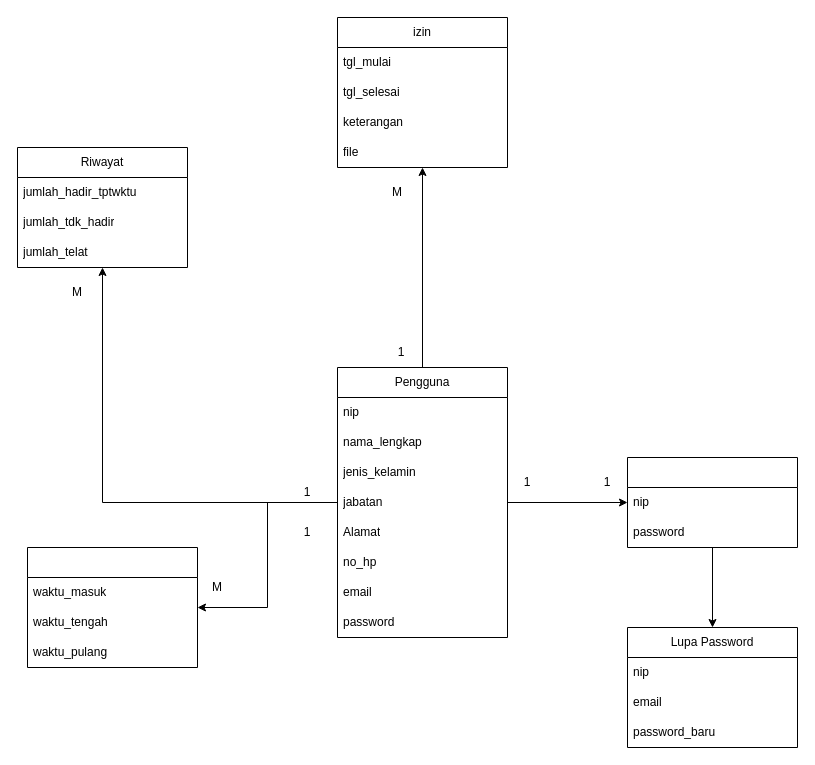
Some shapes in this 815 by 765 pixel diagram are drawn without their labels. Here are the shapes that lost their labels. From the top down, the box of each, then its label:
(626, 456, 798, 548): Login
(26, 546, 198, 668): Absensi
